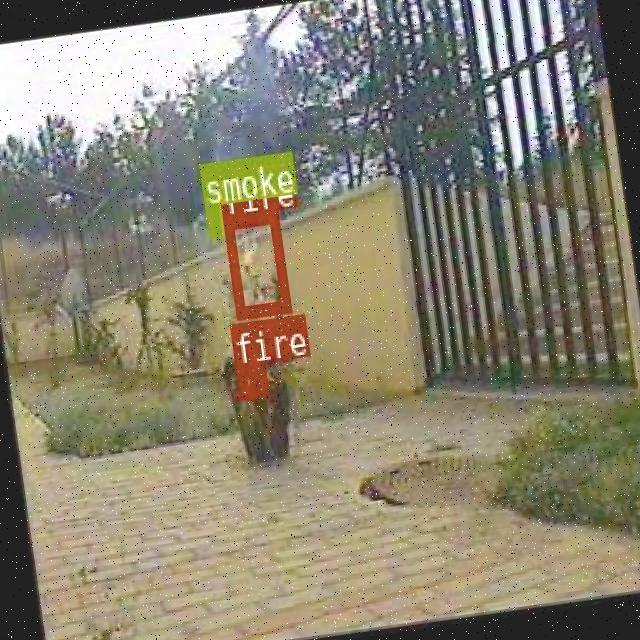fire: (221, 209, 289, 317), (234, 362, 266, 397)
smoke: (204, 205, 222, 238)
